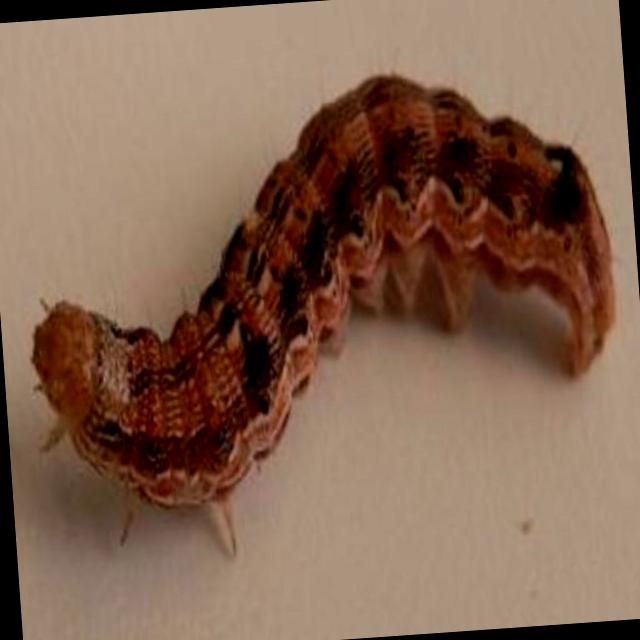Cotton bollworm: (0, 25, 640, 595)
